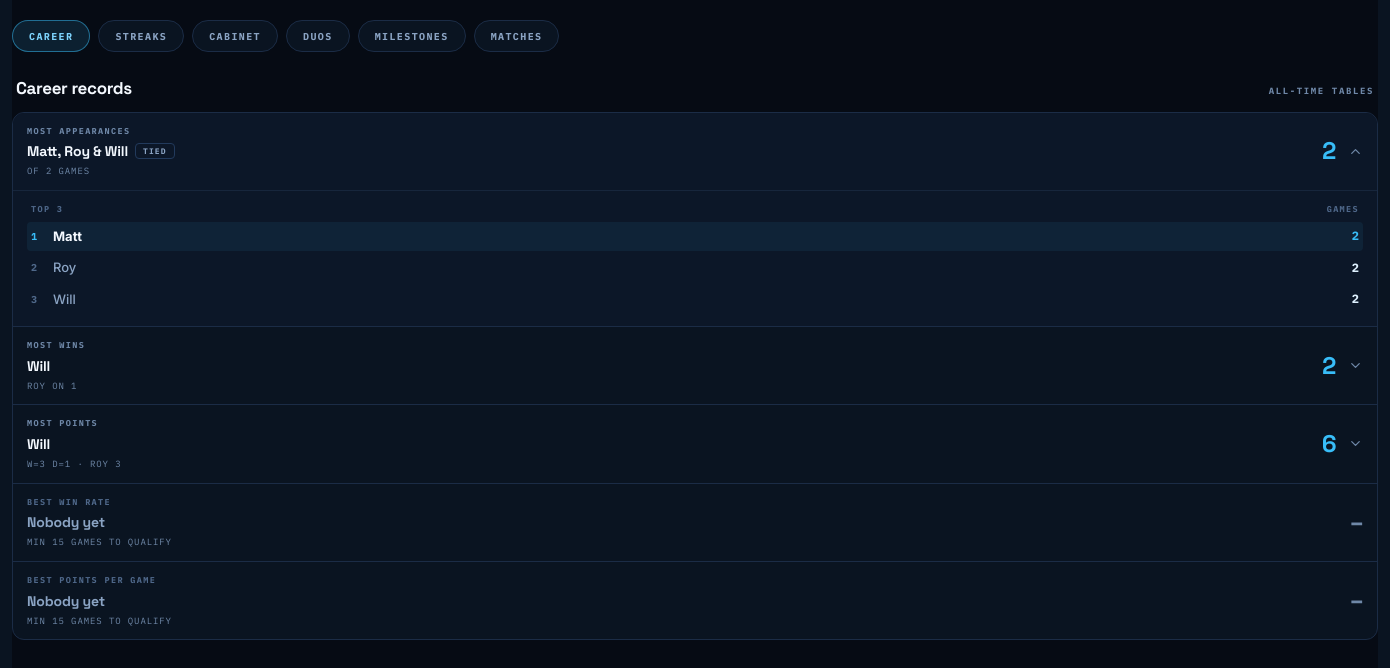
RecordsSection › opens Most appearances by default and keeps one record open at a time
Click the button "Most wins Will Roy on 1 2": click(56, 344) [13, 327, 1377, 404]
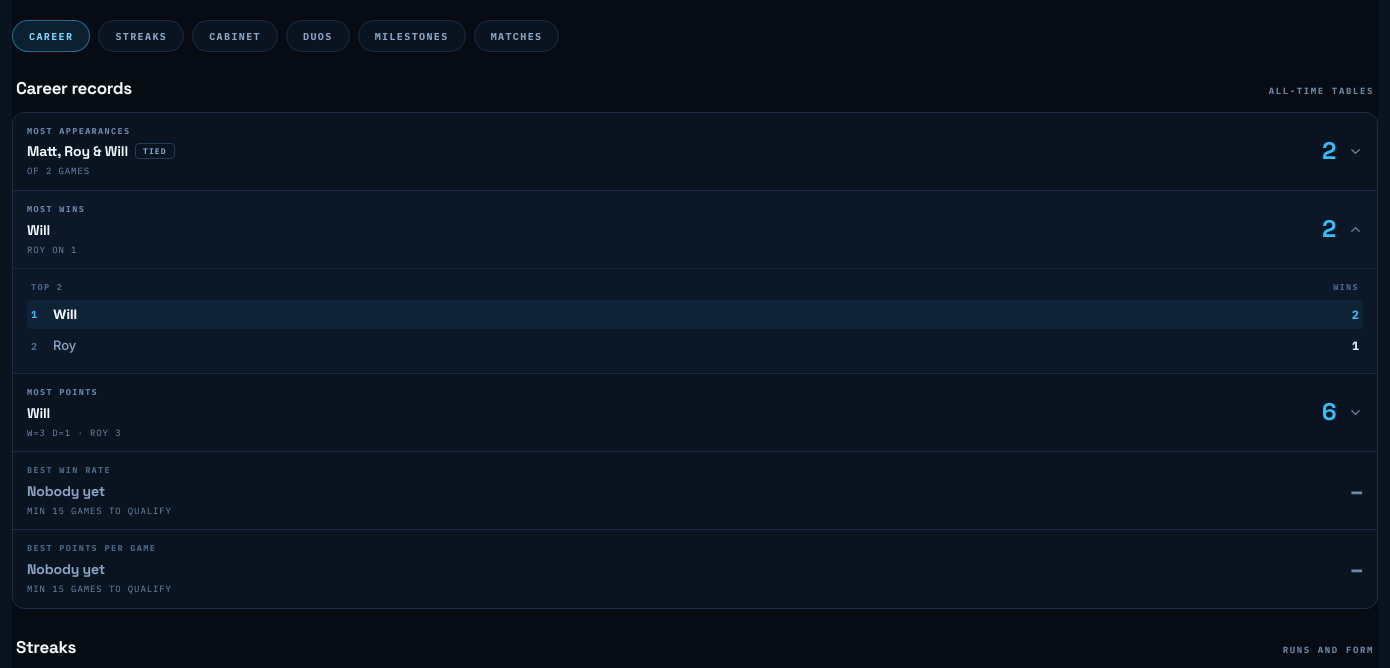
Expected: the button "Most wins Will Roy on 1 2" is expanded, [13, 191, 1377, 268]
Expected: the button "Most appearances" is collapsed, [13, 112, 1377, 190]
